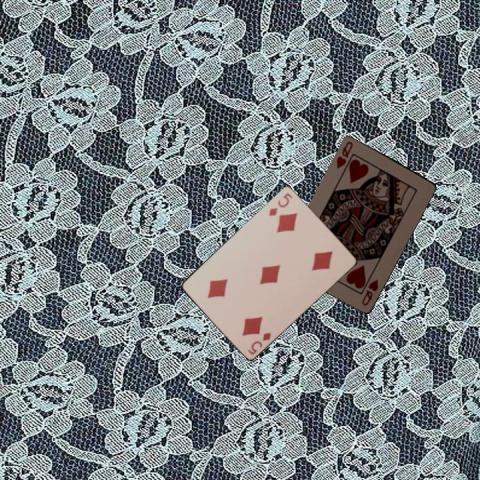5d: (265, 190, 294, 218), (244, 329, 272, 356)
Qh: (333, 138, 354, 170), (359, 276, 379, 307)
